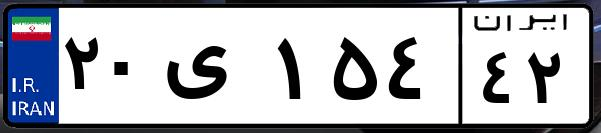0: (110, 28, 158, 98)
1: (270, 28, 330, 110)
2: (57, 26, 110, 100), (525, 38, 570, 115)
4: (385, 28, 445, 110), (475, 38, 525, 113)
5: (330, 28, 385, 110)
ی: (158, 20, 270, 120)
